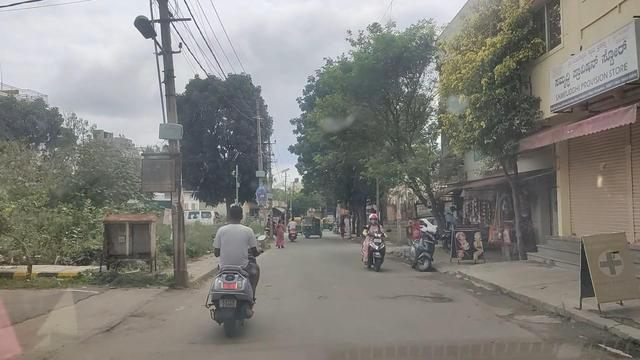LMV: (204, 196, 263, 341), (349, 211, 391, 276), (405, 222, 441, 274)
RoadDamages: (388, 284, 456, 317), (503, 307, 565, 337)
